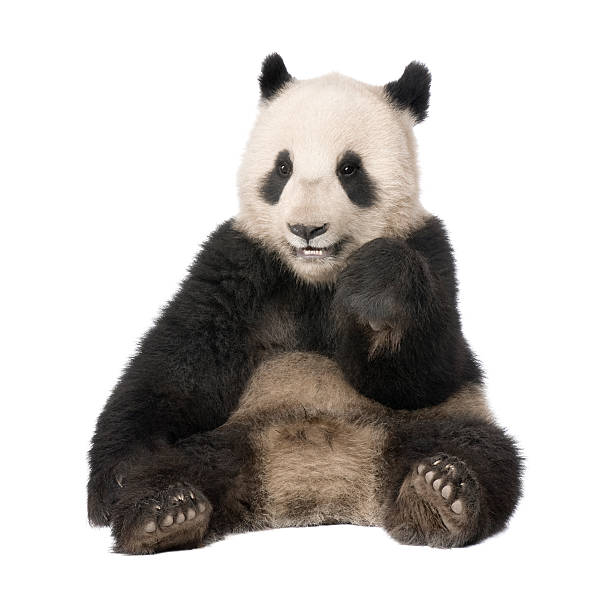panda: (230, 37, 473, 300)
